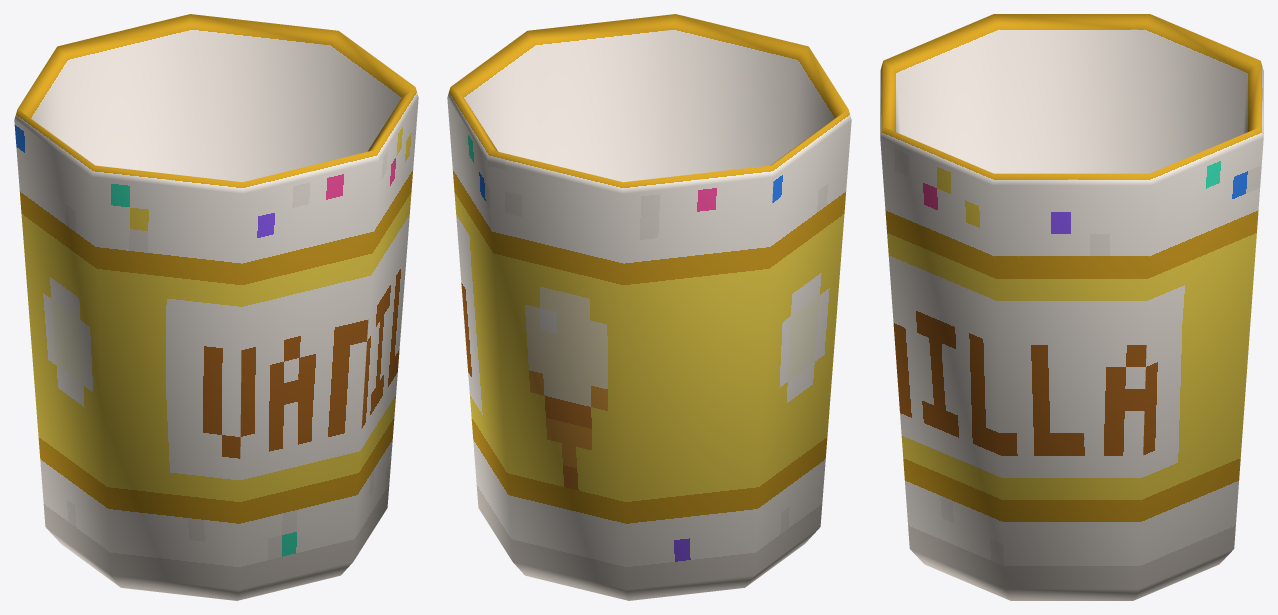
The model's file is Pint Vanilla Empty.fbx.
3 renders of one model, left to right at view 1: azimuth 30°, elevation 25°; view 2: azimuth 150°, elevation 25°; view 3: azimuth 270°, elevation 25°, orthographic.
Visible parts, largest first — view 1: Pint Vanilla Empty carton; view 2: Pint Vanilla Empty carton; view 3: Pint Vanilla Empty carton.
Part boxes in pixels (x1,y1,x2,y2): Pint Vanilla Empty carton: [14, 14, 418, 600]; Pint Vanilla Empty carton: [447, 14, 851, 600]; Pint Vanilla Empty carton: [880, 14, 1263, 600].
Bounding box in the file's own units: 0.0961 × 0.123 × 0.0961.
Materials: 2 (2 with a texture image).
